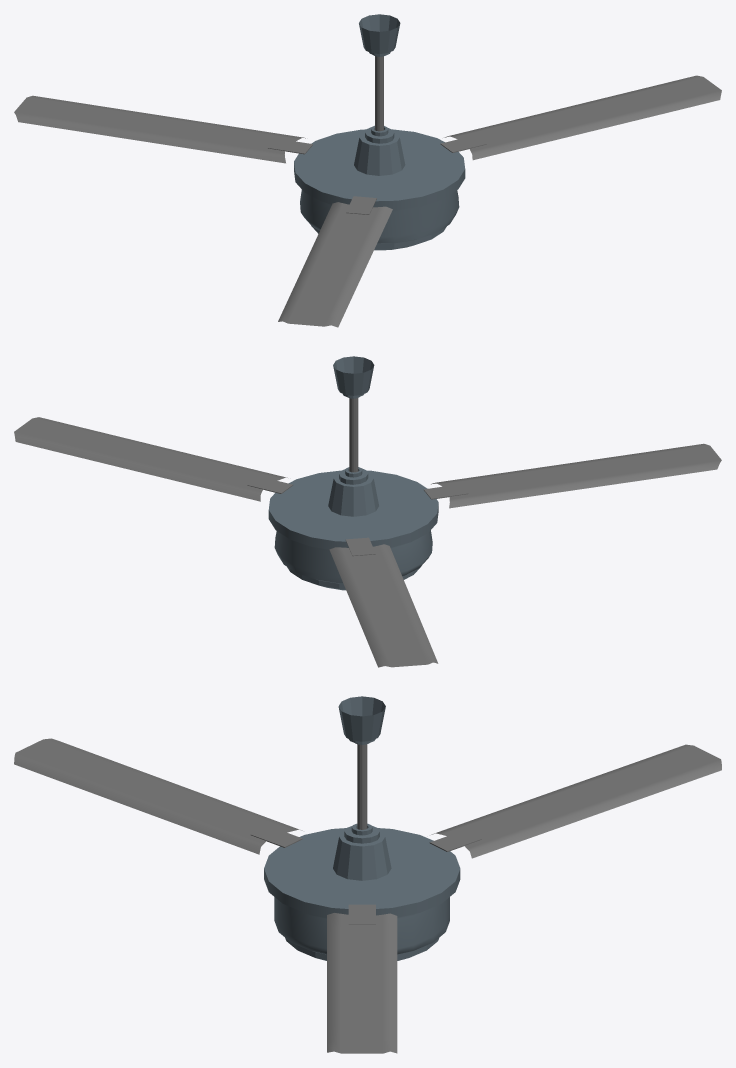
The model's file is ceiling fan.fbx.
The picture shows the model from 3 angles, top to bottom: view 1: azimuth 30°, elevation 25°; view 2: azimuth 150°, elevation 25°; view 3: azimuth 270°, elevation 25°; orthographic projection. The views are drawn at different scales.
Visible parts, largest first — view 1: pCylinder1, pPlane4, pPlane2, pPlane3, polySurface13, polySurface14; view 2: pCylinder1, pPlane2, pPlane3, pPlane4, polySurface13, polySurface14; view 3: pCylinder1, pPlane3, pPlane2, pPlane4, polySurface13, polySurface14.
Boxes of the visible parts, <box> form: pCylinder1: <box>294,129,465,250</box>; pPlane4: <box>14,95,312,163</box>; pPlane2: <box>440,75,721,160</box>; pPlane3: <box>278,196,392,327</box>; polySurface13: <box>354,125,405,175</box>; polySurface14: <box>359,14,400,56</box>; pCylinder1: <box>268,470,438,590</box>; pPlane2: <box>14,417,293,501</box>; pPlane3: <box>423,443,721,508</box>; pPlane4: <box>329,537,438,667</box>; polySurface13: <box>328,467,378,516</box>; polySurface14: <box>333,356,374,398</box>; pCylinder1: <box>264,828,460,960</box>; pPlane3: <box>14,738,302,854</box>; pPlane2: <box>327,904,397,1053</box>; pPlane4: <box>429,744,721,858</box>; polySurface13: <box>333,823,391,880</box>; polySurface14: <box>338,696,385,744</box>.
Size of the model in its own units: 8.51 by 3.01 by 8.06.
